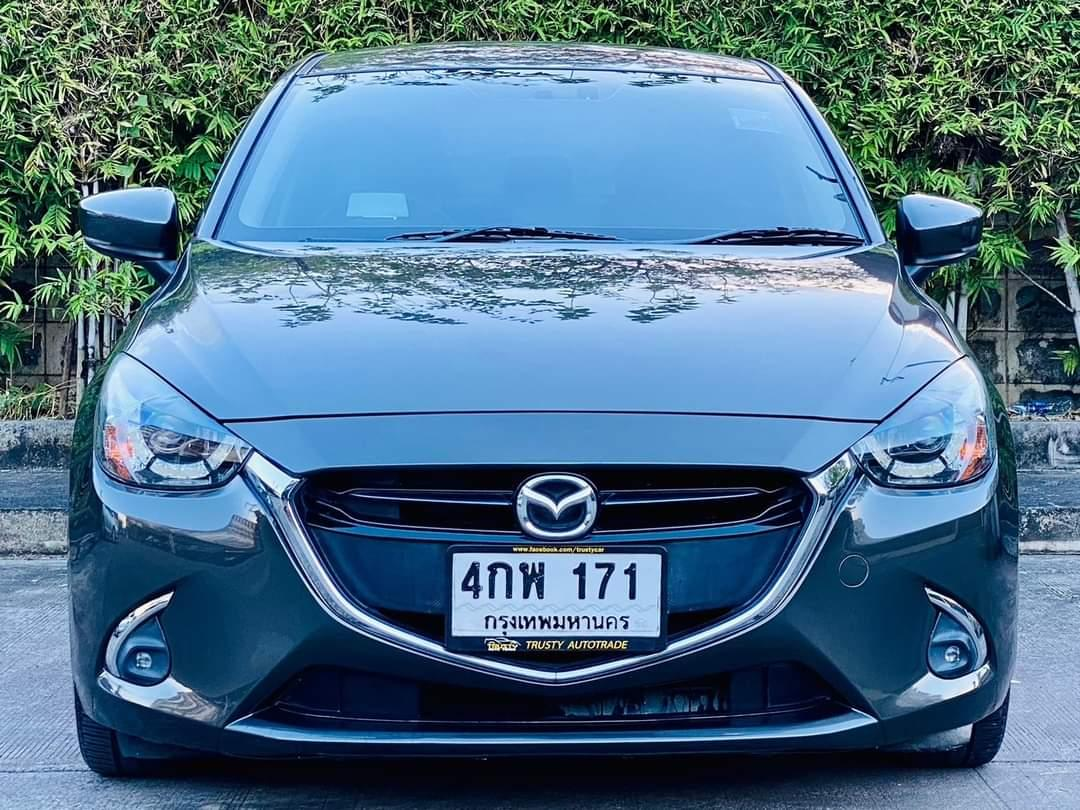license-plate: (444, 540, 668, 658)
